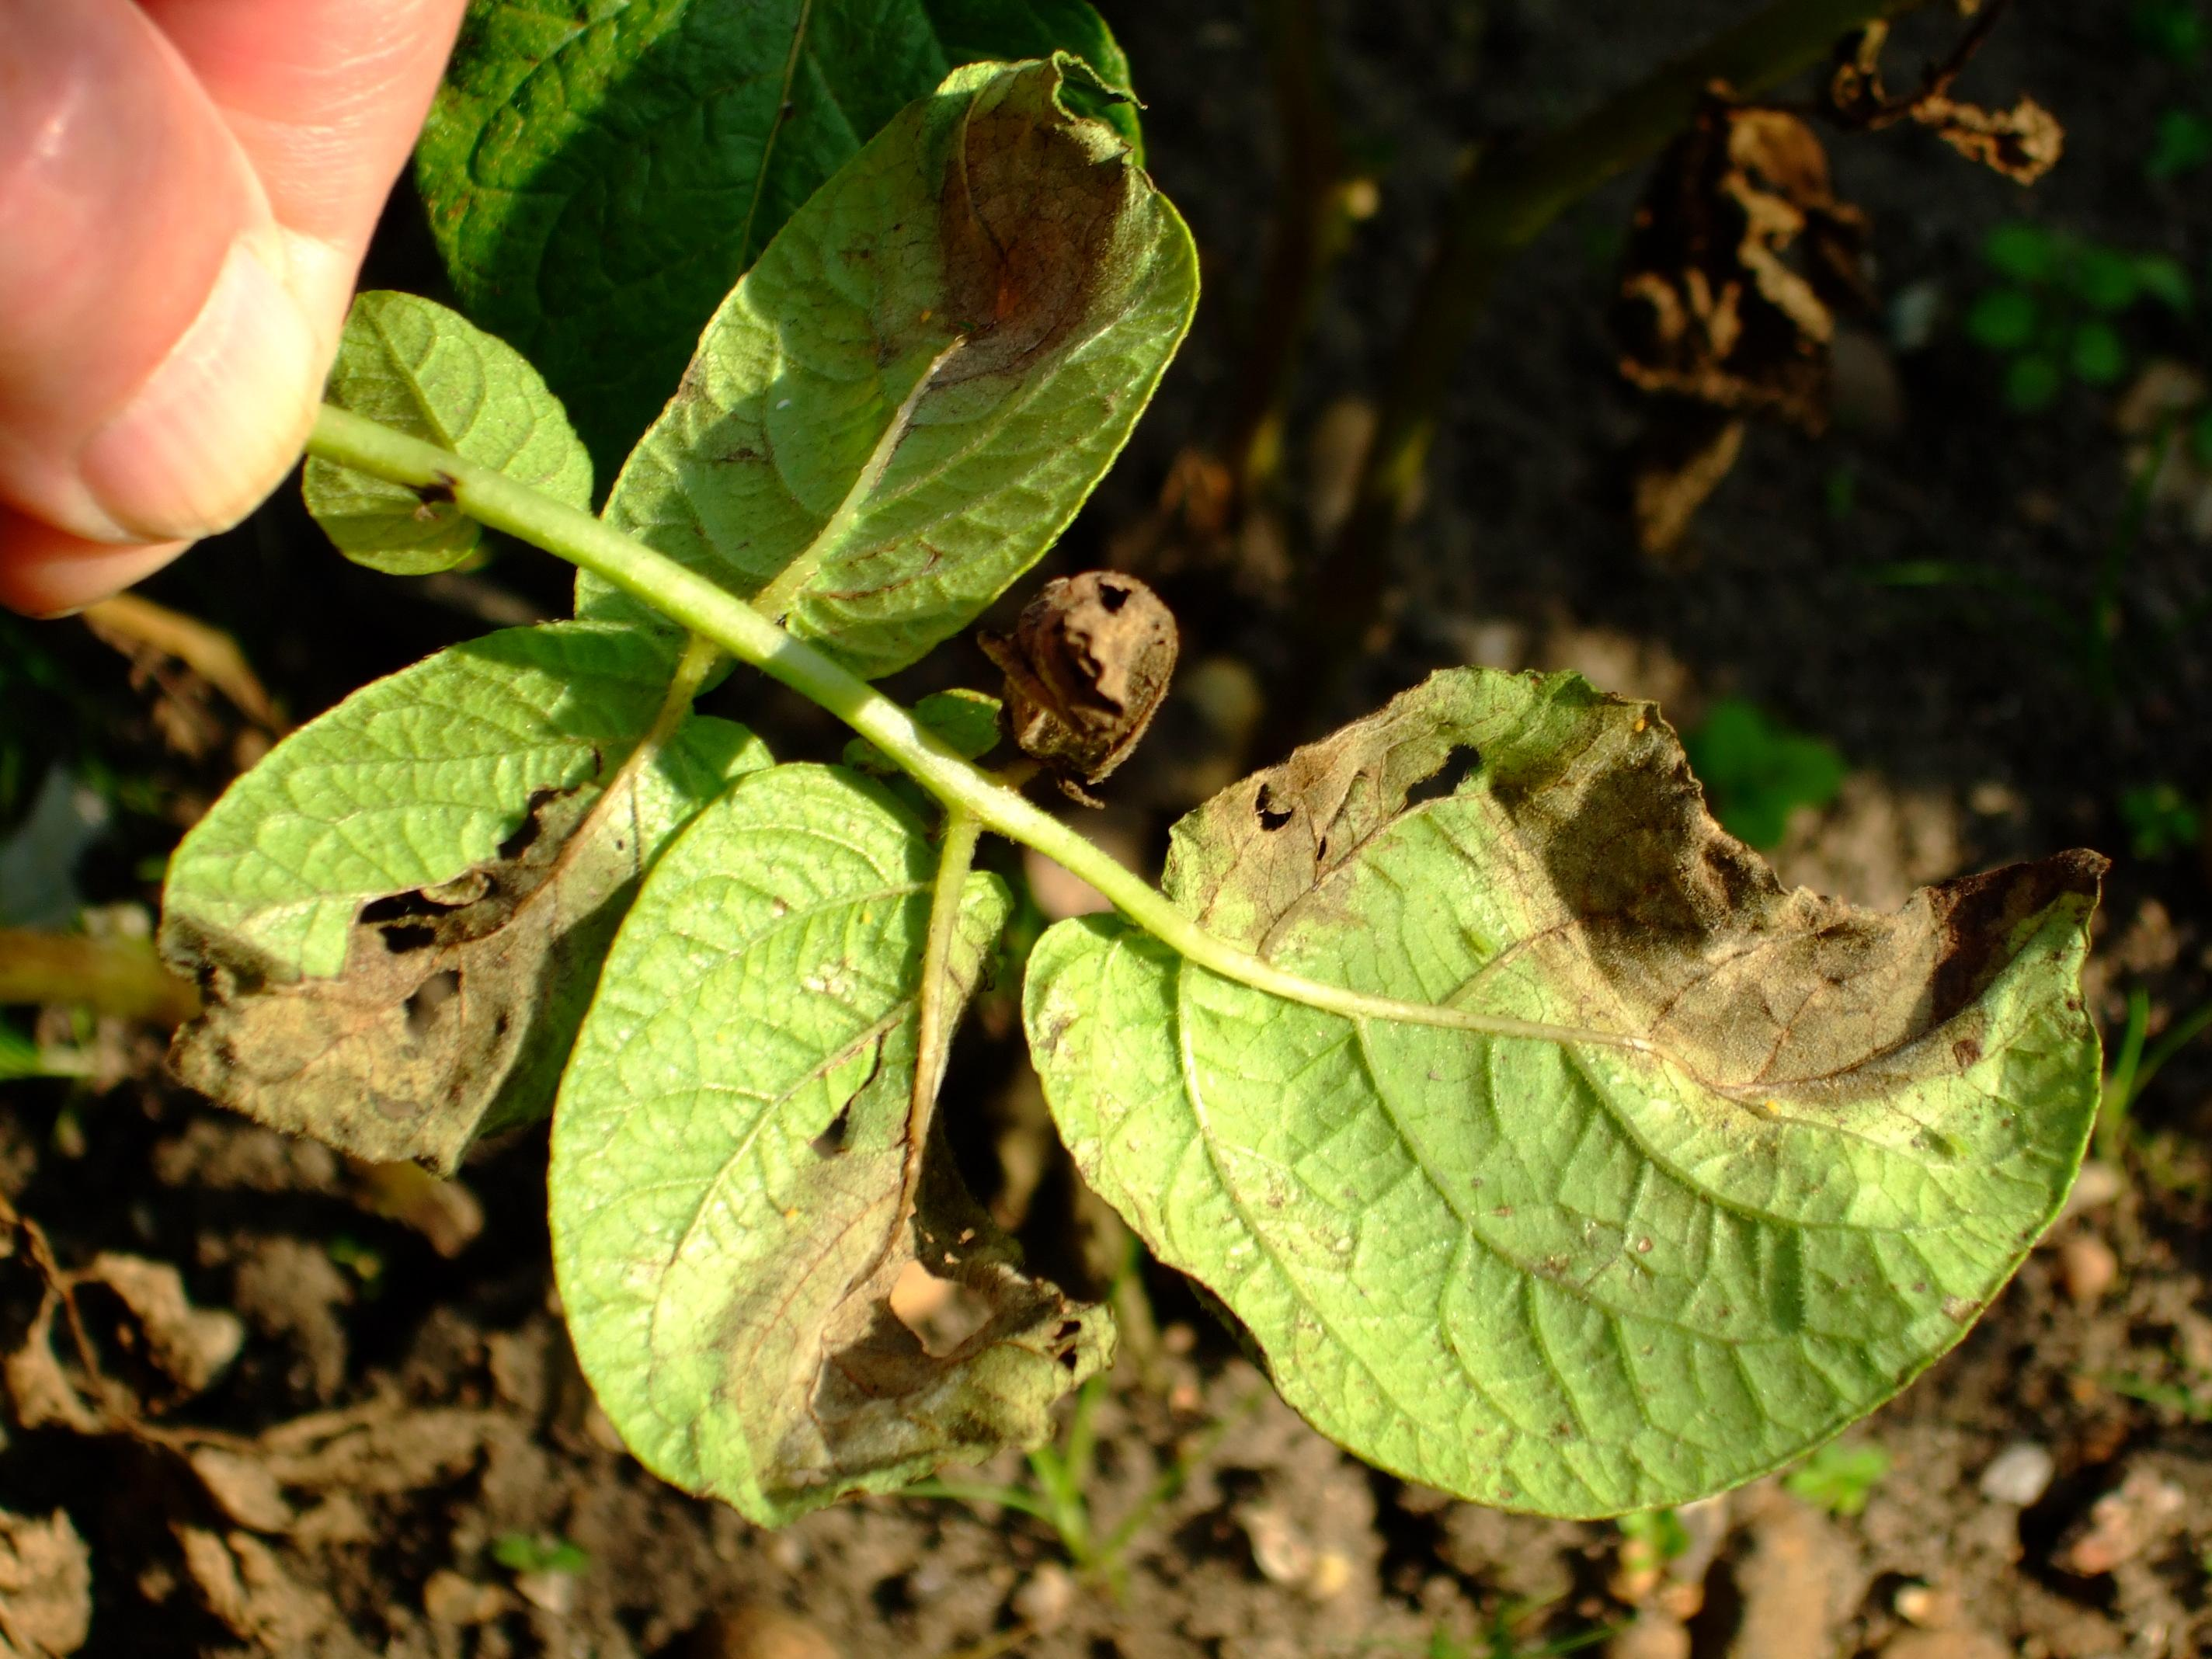Potato leaf late blight: (996, 659, 2106, 1532), (564, 54, 1207, 685), (538, 748, 1008, 1525), (169, 620, 773, 1173)
